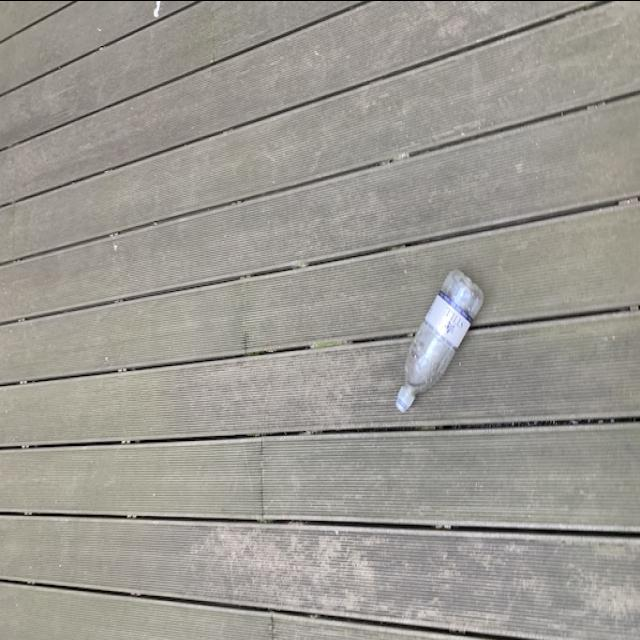litter: (396, 262, 486, 412)
